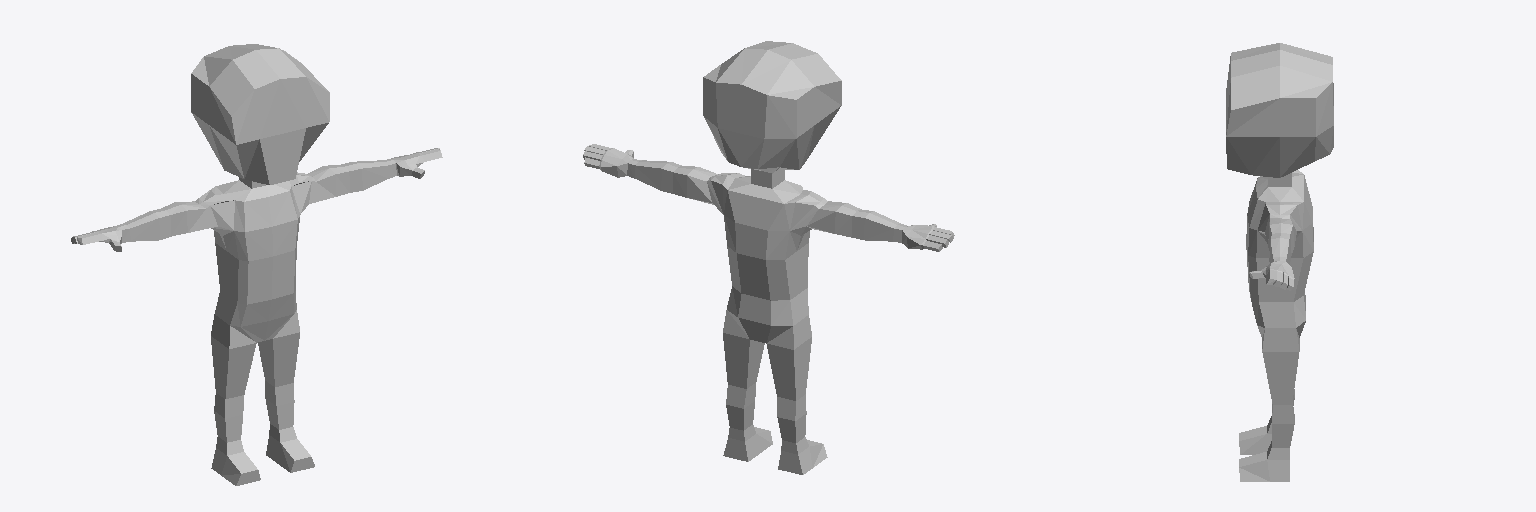
The model's file is SmallKid_baseGeo_001.obj.
3 renders of one model, left to right at view 1: azimuth 30°, elevation 25°; view 2: azimuth 150°, elevation 25°; view 3: azimuth 270°, elevation 25°, orthographic.
Visible parts, largest first — view 1: pCube1; view 2: pCube1; view 3: pCube1.
Boxes of the visible parts, x1,y1,x2,y2 form: pCube1: [71, 44, 442, 485]; pCube1: [583, 41, 954, 474]; pCube1: [1226, 43, 1333, 481].
Size of the model in its own units: 3.91 by 4.22 by 1.